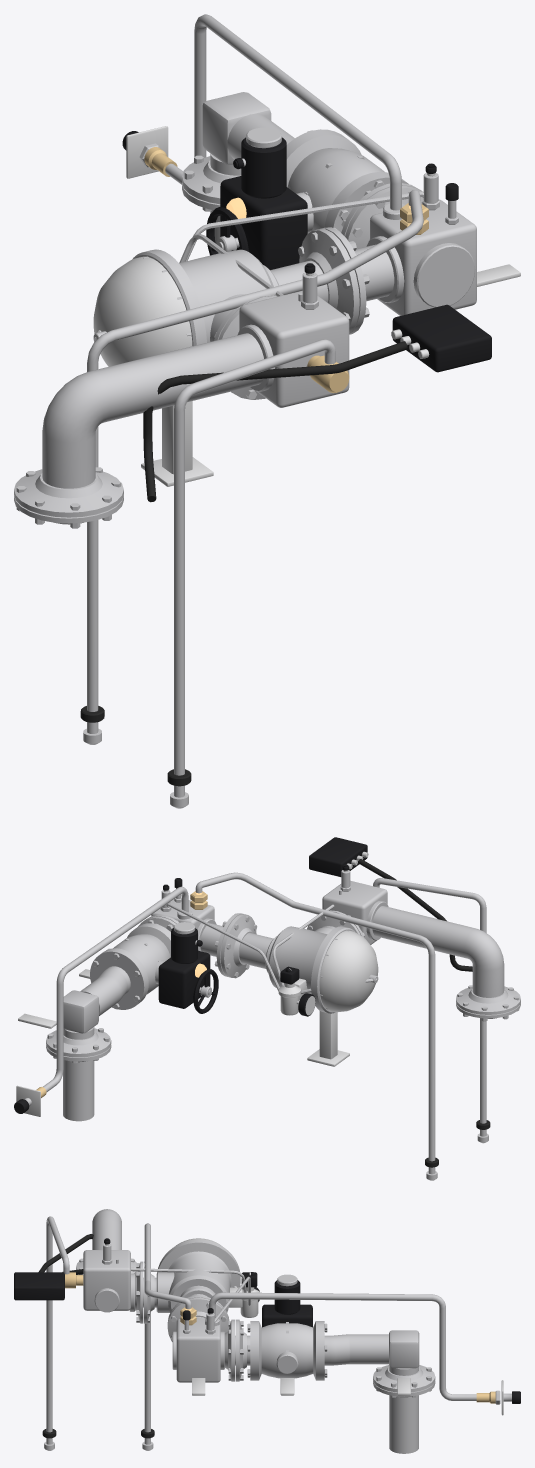
Rendered from SM_ColdGas_Plumbing.fbx.
The picture shows the model from 3 angles, top to bottom: view 1: azimuth 30°, elevation 25°; view 2: azimuth 150°, elevation 25°; view 3: azimuth 270°, elevation 25°; orthographic projection. The views are drawn at different scales.
Parts seen in each view (by area): view 1: Export_ColdGas_Plumbing; view 2: Export_ColdGas_Plumbing; view 3: Export_ColdGas_Plumbing.
Boxes of the visible parts, box(x1,y1,x2,y2) form: Export_ColdGas_Plumbing: box(14, 14, 520, 808); Export_ColdGas_Plumbing: box(14, 837, 520, 1180); Export_ColdGas_Plumbing: box(14, 1209, 520, 1453).
Bounding box in the file's own units: 1.5 × 1.11 × 0.849.
